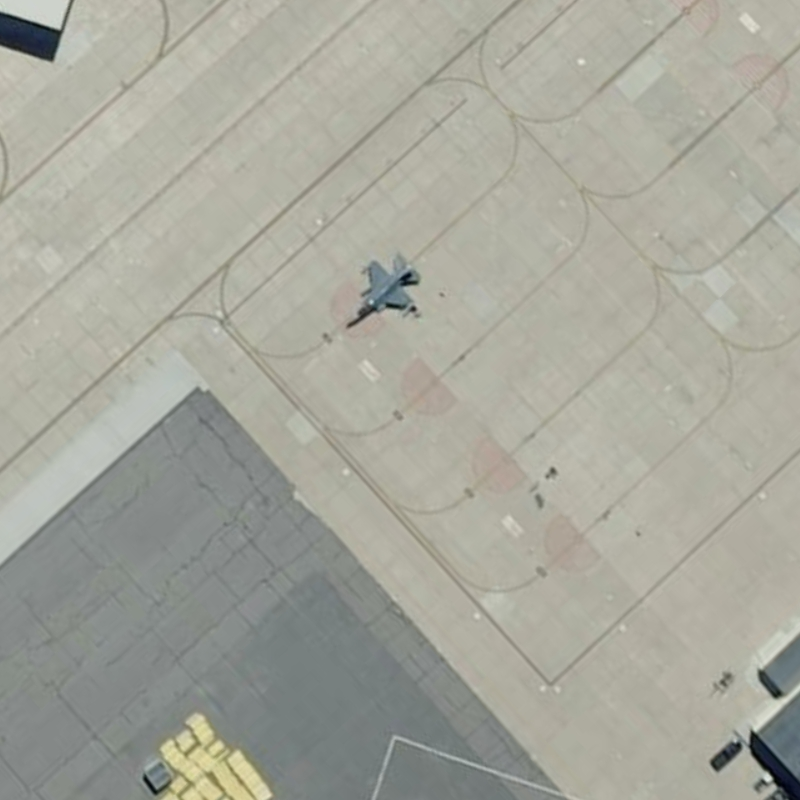A5: (337, 247, 431, 336)
